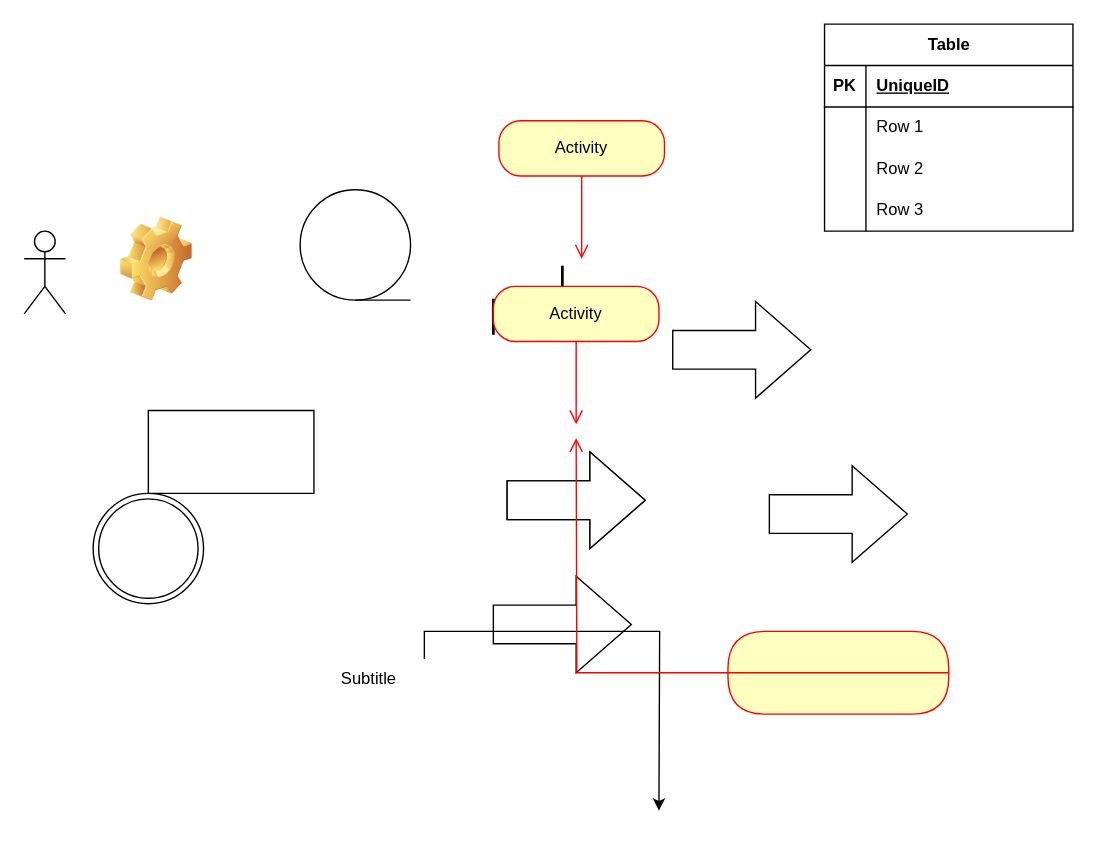
Image size: 1097x846. Some labels were removed from this diagram. Here are the shapes that lost their labels. From the top down, the centre of each, then its label:
point 44,272: Actor
point 838,672: Composite State
